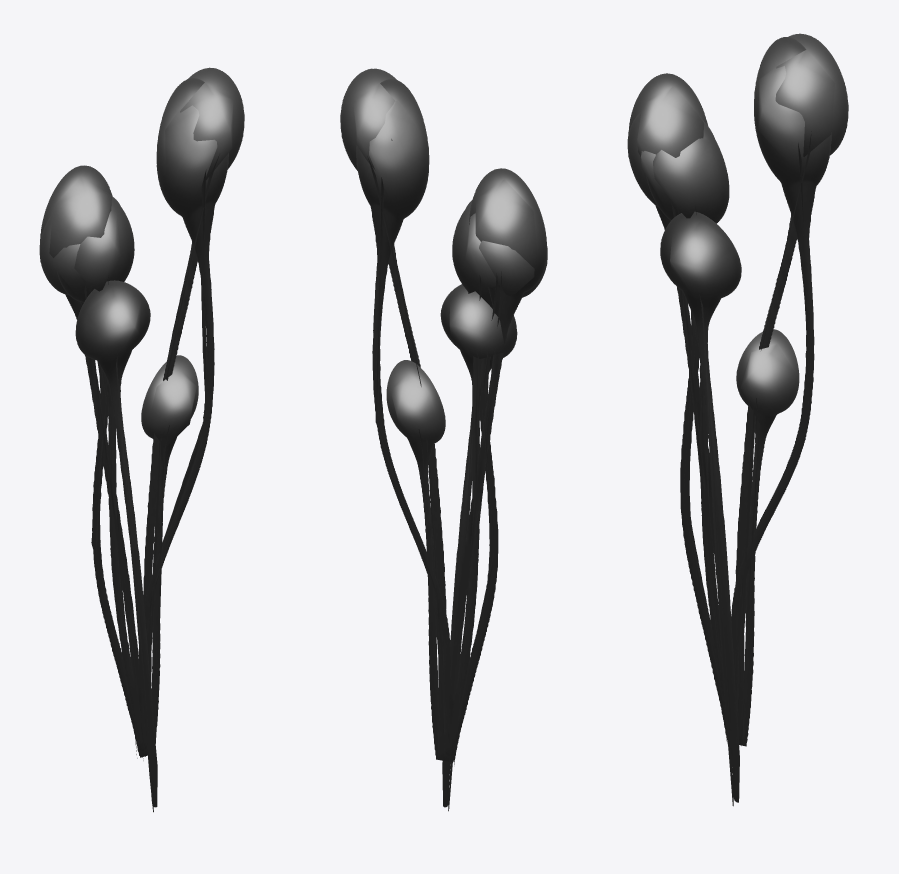
Rendered from MEP_Lumies_N.fbx.
3 renders of one model, left to right at view 1: azimuth 30°, elevation 25°; view 2: azimuth 150°, elevation 25°; view 3: azimuth 330°, elevation 25°, orthographic. The views are drawn at different scales.
Visible parts, largest first — view 1: MEP_Lumie_04, MEP_Lumie_01, MEP_Lumie_03, MEP_Lumie_02; view 2: MEP_Lumie_04, MEP_Lumie_01, MEP_Lumie_03, MEP_Lumie_02; view 3: MEP_Lumie_04, MEP_Lumie_03, MEP_Lumie_01, MEP_Lumie_02.
Boxes of the visible parts, x1=… form: MEP_Lumie_04: x1=57, y1=78, x2=228, y2=758; MEP_Lumie_01: x1=40, y1=165, x2=198, y2=754; MEP_Lumie_03: x1=39, y1=67, x2=244, y2=760; MEP_Lumie_02: x1=75, y1=280, x2=157, y2=812; MEP_Lumie_04: x1=356, y1=79, x2=498, y2=764; MEP_Lumie_01: x1=386, y1=168, x2=547, y2=759; MEP_Lumie_03: x1=340, y1=68, x2=547, y2=766; MEP_Lumie_02: x1=440, y1=284, x2=517, y2=811; MEP_Lumie_04: x1=646, y1=37, x2=831, y2=743; MEP_Lumie_03: x1=627, y1=33, x2=848, y2=745; MEP_Lumie_01: x1=628, y1=73, x2=799, y2=746; MEP_Lumie_02: x1=660, y1=211, x2=741, y2=806.
Size of the model in its own units: 38.76 by 114 by 7.69.
1 material, 1 textured.
